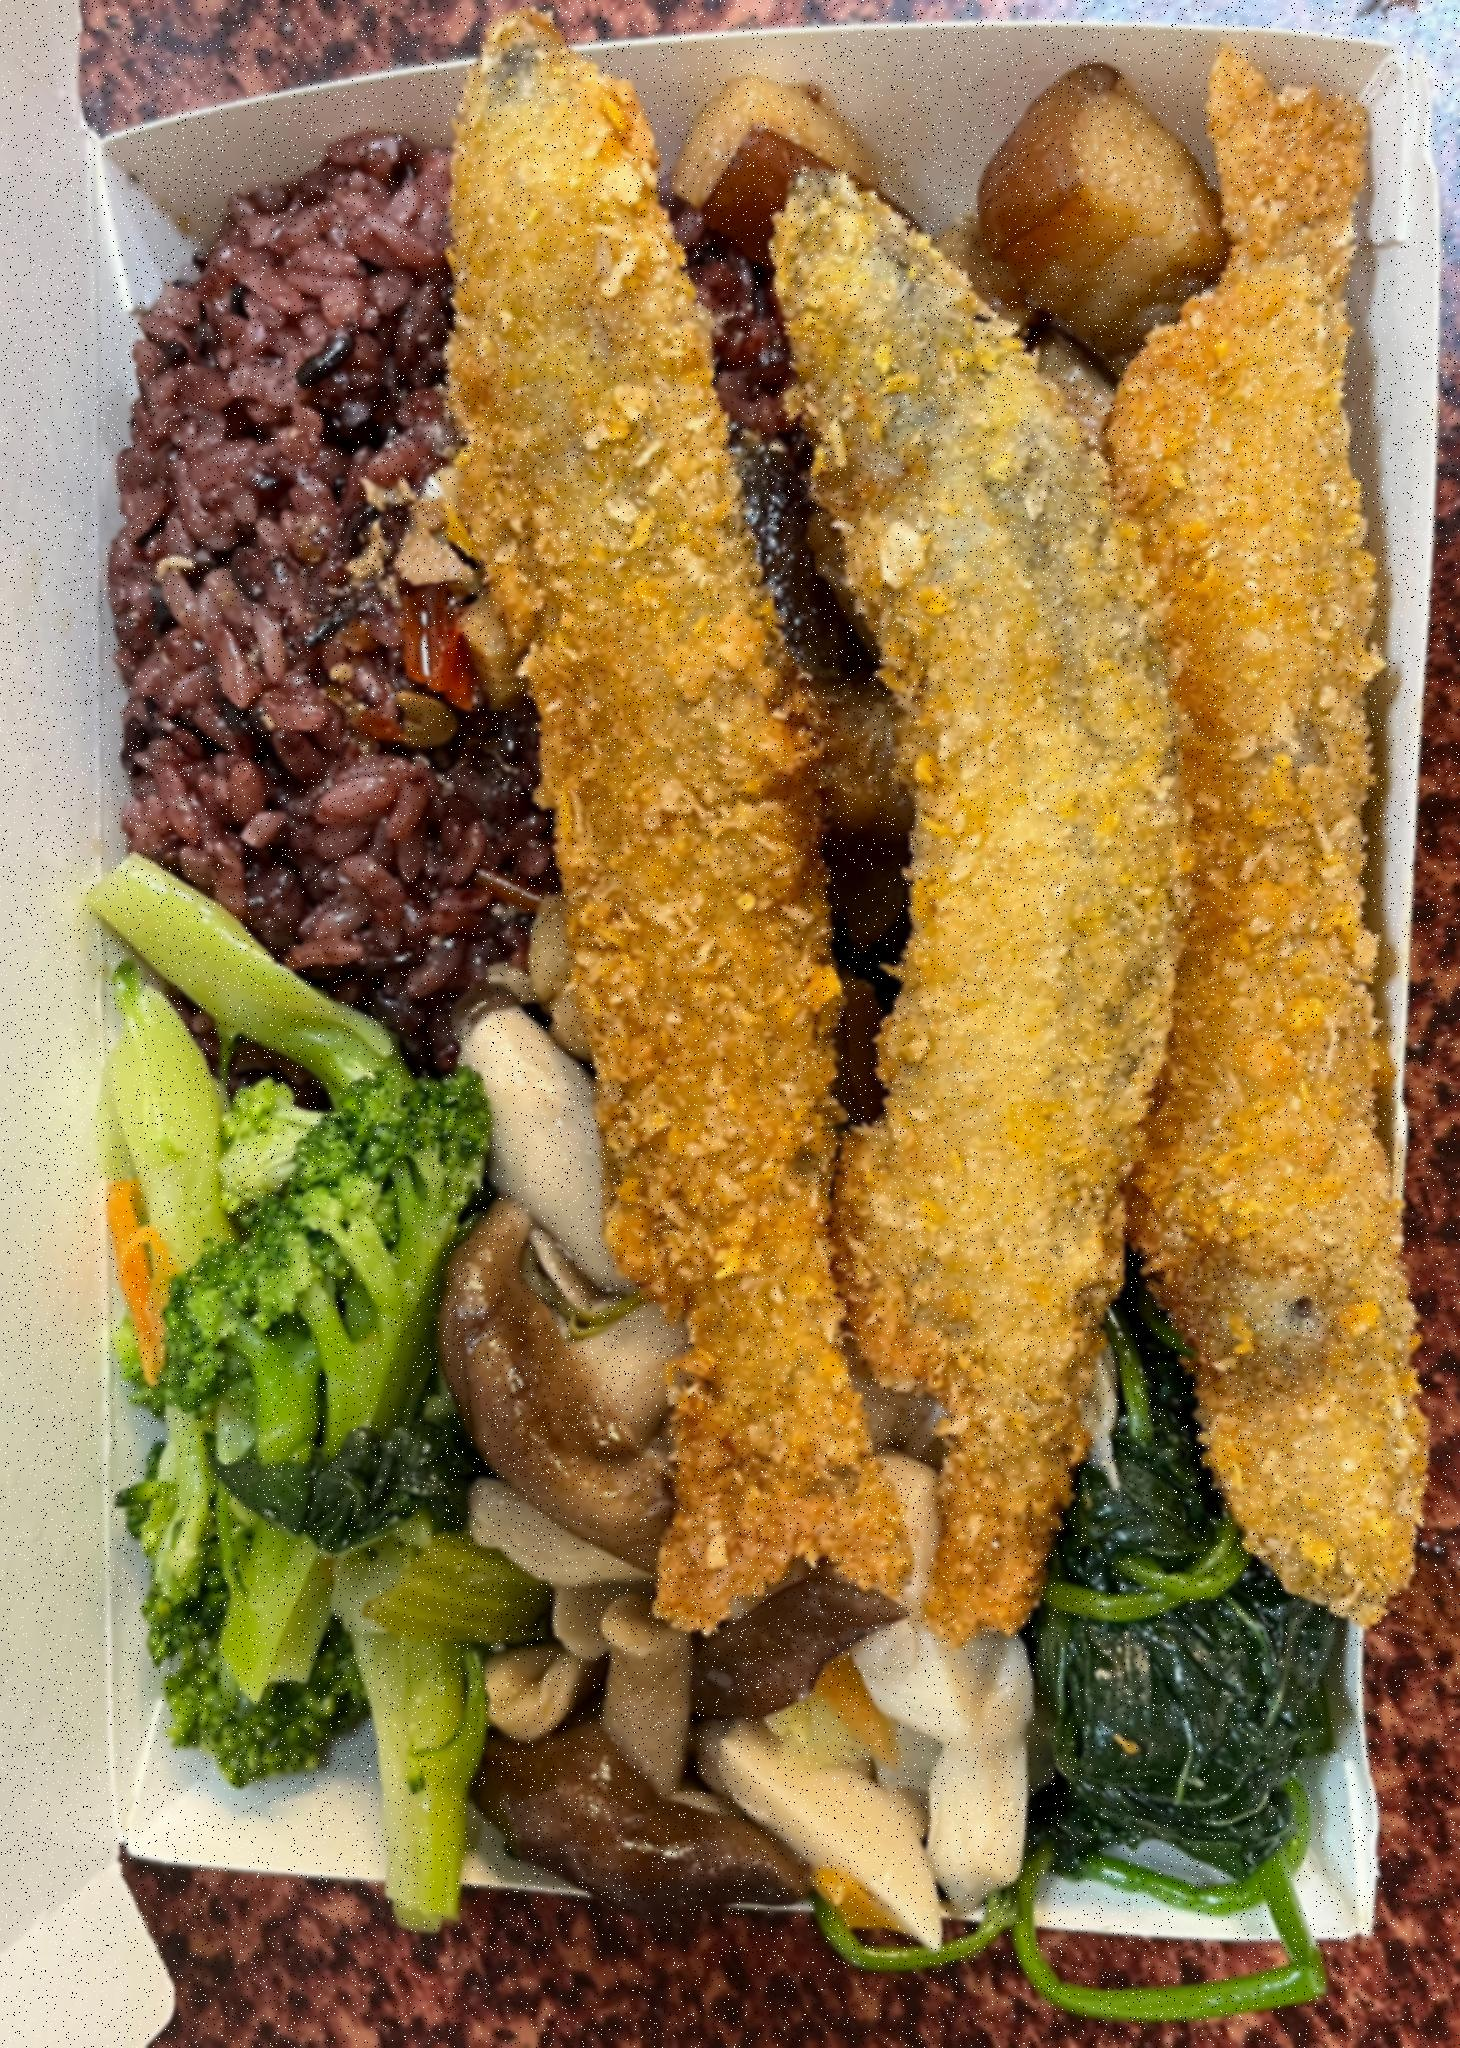box: (35, 8, 1452, 1963)
braised pork: (670, 58, 1229, 318)
fried shishamo: (457, 8, 1395, 1648)
purple rice: (101, 160, 537, 1029)
side dish: (87, 877, 487, 1841), (457, 980, 730, 1892), (1051, 1304, 1288, 1896)
